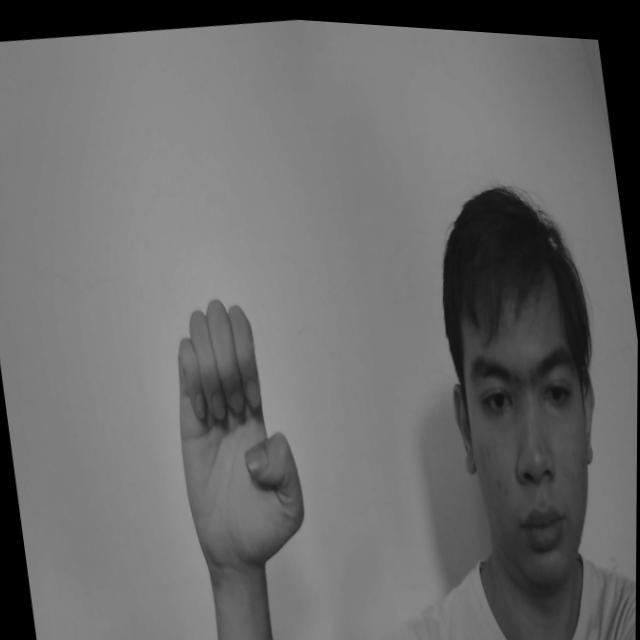E: (161, 284, 316, 574)
